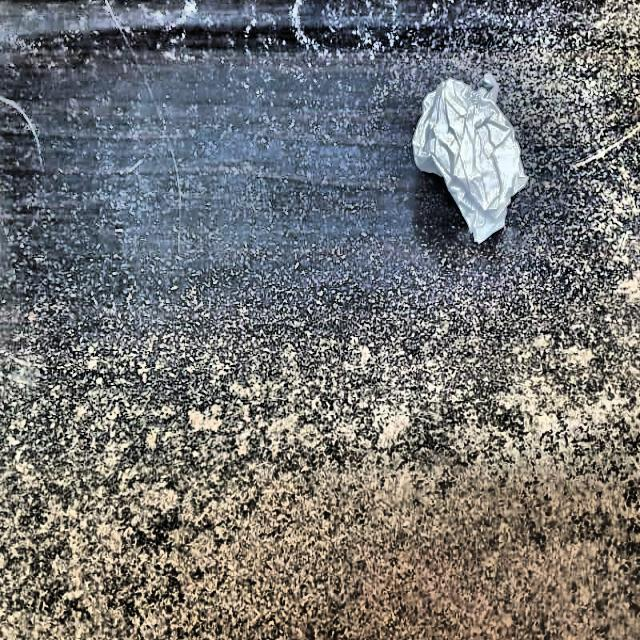paper: (421, 65, 538, 268)
